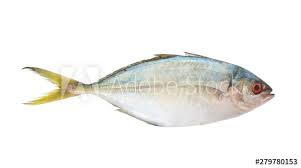Ikan Selar: (27, 51, 274, 124)
